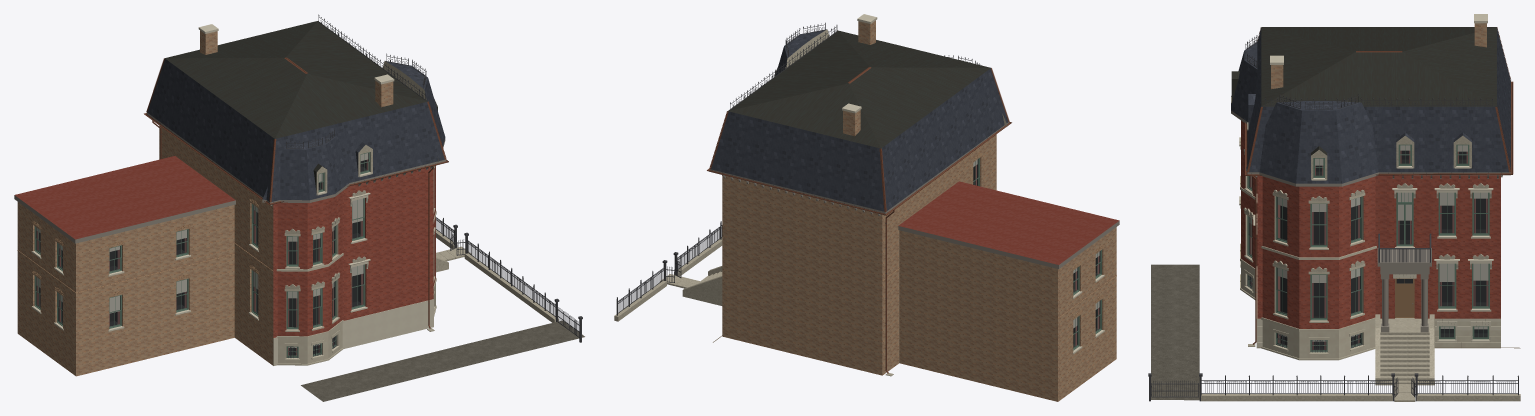
Rendered from henderson_house_1816_prairie__as_mapped_1904.glb.
3 views of the same model, side by side, from view 1: azimuth 30°, elevation 25°; view 2: azimuth 150°, elevation 25°; view 3: azimuth 270°, elevation 25° (orthographic). The views are drawn at different scales.
Visible parts, largest first — view 1: henderson_house_1816_prairie__as_mapped_1904; view 2: henderson_house_1816_prairie__as_mapped_1904; view 3: henderson_house_1816_prairie__as_mapped_1904.
Boxes of the visible parts, x1,y1,x2,y2 form: henderson_house_1816_prairie__as_mapped_1904: (14,14,584,401); henderson_house_1816_prairie__as_mapped_1904: (614,14,1119,401); henderson_house_1816_prairie__as_mapped_1904: (1148,14,1520,401).
Bounding box in the file's own units: 31.7 × 18.16 × 22.66.
29 materials, 19 textured.
